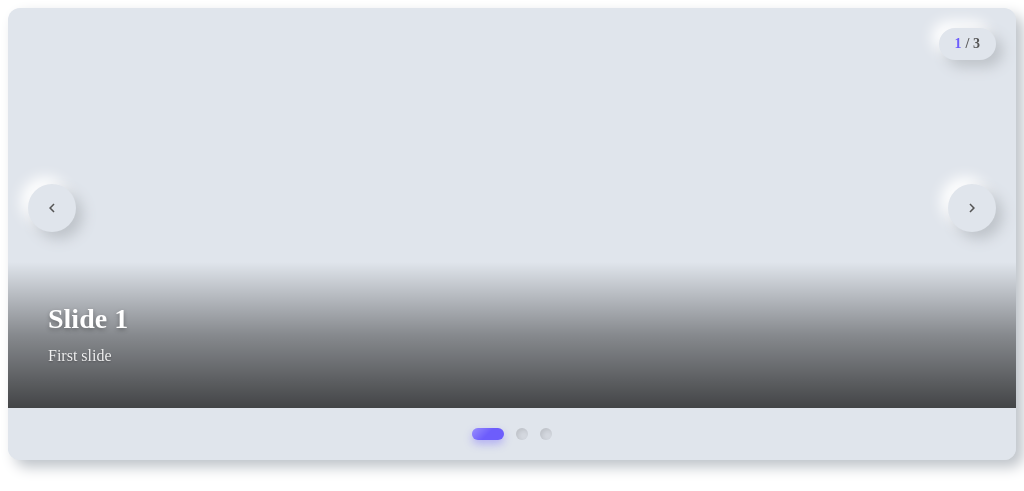
Scenario: Carousel › loops slides when loop is true
Click the button named "Next slide" at [972, 208], box [948, 184, 996, 232]
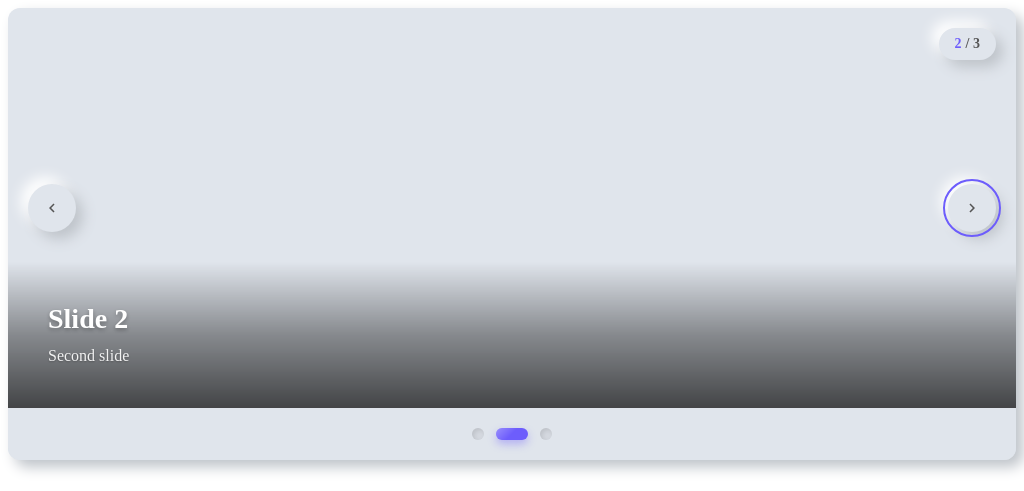
Click the button named "Next slide" at [972, 208], box [948, 184, 996, 232]
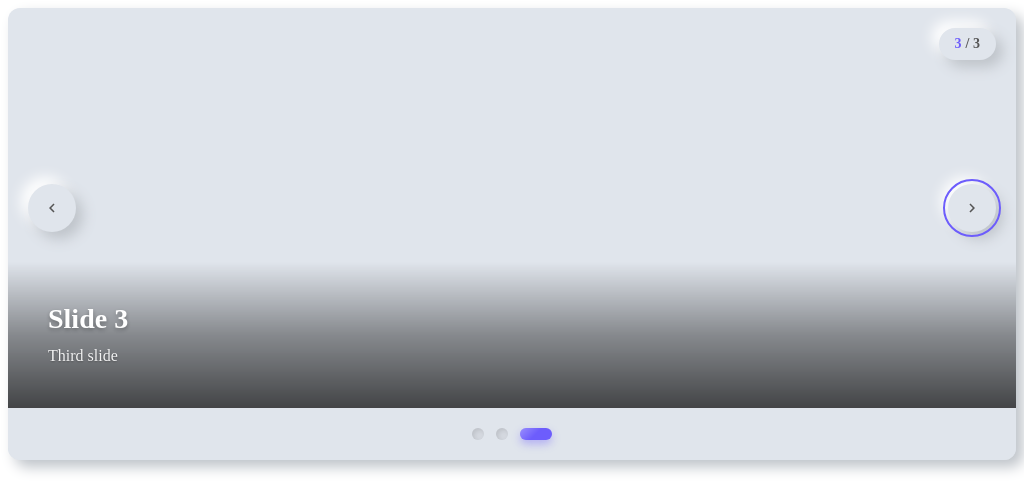
Click the button named "Next slide" at [972, 208], box [948, 184, 996, 232]
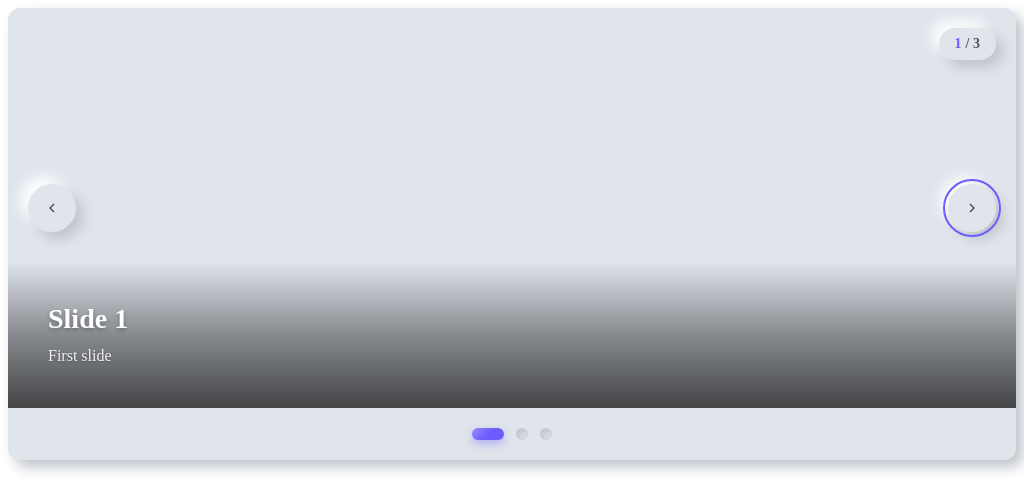
Result: the text "1" is shown at [955, 36, 962, 52]
